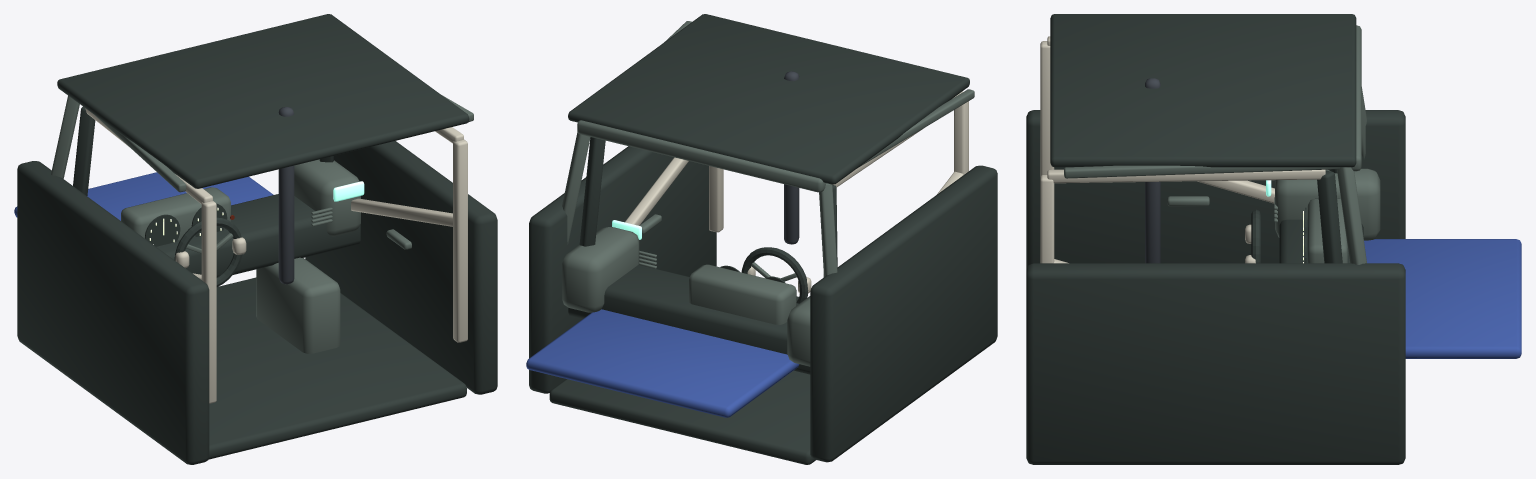
The model's file is hover-cockpit.glb.
3 renders of one model, left to right at view 1: azimuth 30°, elevation 25°; view 2: azimuth 150°, elevation 25°; view 3: azimuth 270°, elevation 25°, orthographic. The views are drawn at different scales.
Parts seen in each view (by area): view 1: hover_clay_charcoal.009, hover_clay_trim.009, hover_clay_cream.009, bonnet.004, arm_left_fore.004, wheel_rim.004; view 2: hover_clay_charcoal.009, hover_clay_trim.009, bonnet.004, hover_clay_cream.009, arm_left_fore.004, wheel_rim.004; view 3: hover_clay_charcoal.009, bonnet.004, hover_clay_trim.009, hover_clay_cream.009, arm_left_fore.004, wheel_rim.004.
Part boxes in pixels (left/top/right/bottom): hover_clay_charcoal.009: left=17, top=14, right=497, bottom=464; hover_clay_trim.009: left=51, top=95, right=473, bottom=353; hover_clay_cream.009: left=85, top=108, right=467, bottom=403; bonnet.004: left=14, top=172, right=273, bottom=220; arm_left_fore.004: left=278, top=107, right=294, bottom=284; wheel_rim.004: left=174, top=217, right=242, bottom=286; hover_clay_charcoal.009: left=529, top=14, right=997, bottom=464; hover_clay_trim.009: left=562, top=21, right=974, bottom=366; bonnet.004: left=526, top=309, right=799, bottom=417; hover_clay_cream.009: left=625, top=91, right=968, bottom=232; arm_left_fore.004: left=784, top=71, right=799, bottom=244; wheel_rim.004: left=741, top=247, right=808, bottom=303; hover_clay_charcoal.009: left=1026, top=14, right=1405, bottom=464; bonnet.004: left=1364, top=239, right=1521, bottom=358; hover_clay_trim.009: left=1064, top=25, right=1380, bottom=264; hover_clay_cream.009: left=1040, top=36, right=1325, bottom=263; arm_left_fore.004: left=1145, top=78, right=1160, bottom=263; wheel_rim.004: left=1251, top=209, right=1260, bottom=263.
Size of the model in its own units: 1.86 by 1.64 by 2.35.
